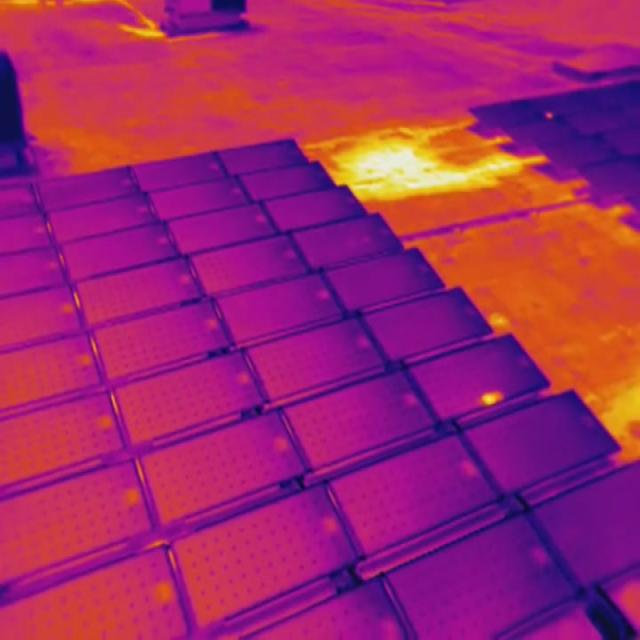Orange-Spots: (481, 390, 505, 406), (546, 112, 552, 119)
